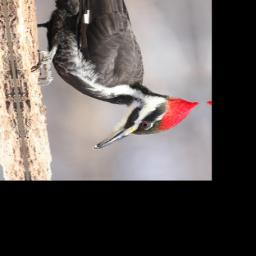Woodpecker: (22, 0, 205, 156)
